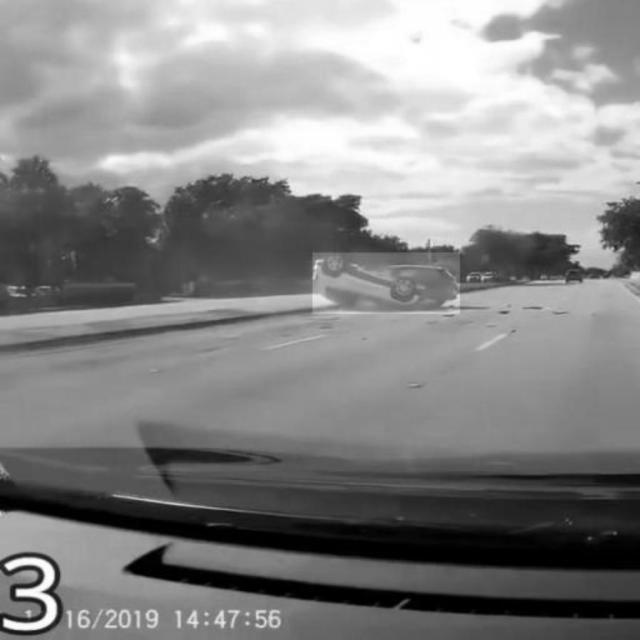accident: (313, 253, 460, 314)
